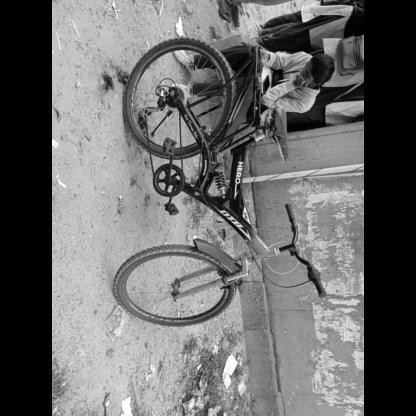Bicycle: (98, 38, 337, 356)
